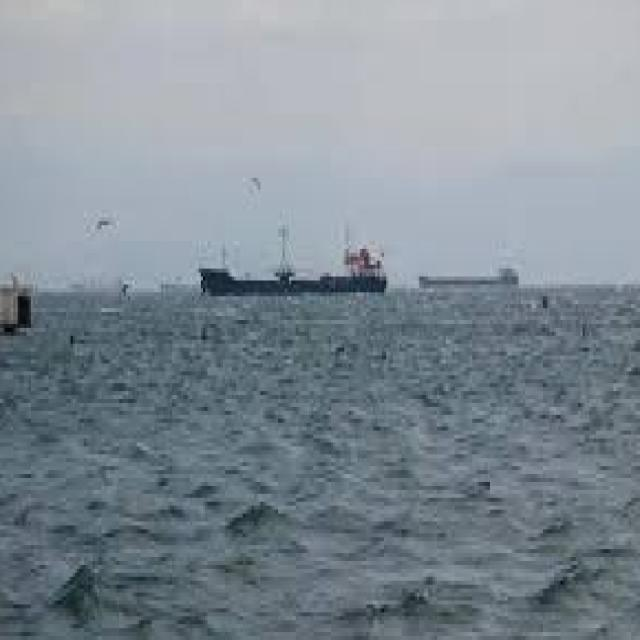cargoship: (202, 224, 390, 294), (421, 256, 521, 293)
